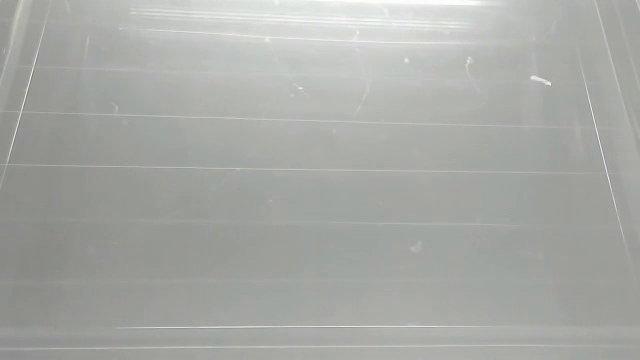alpha: (526, 72, 554, 90)
